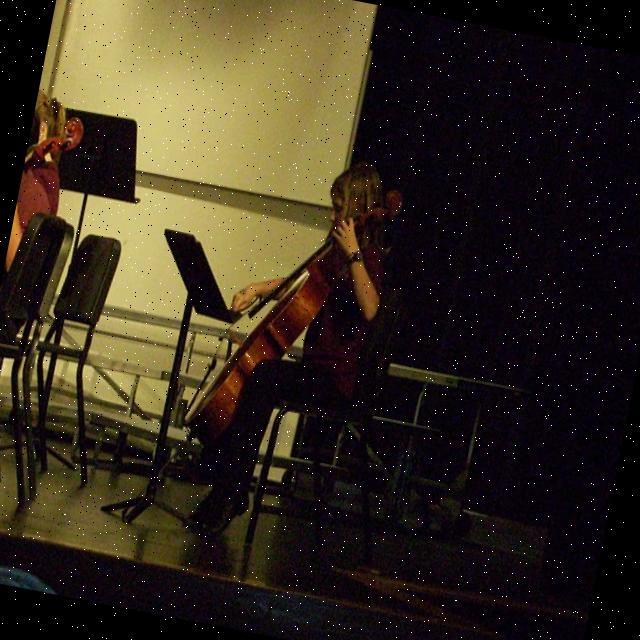cello: (178, 157, 410, 482)
